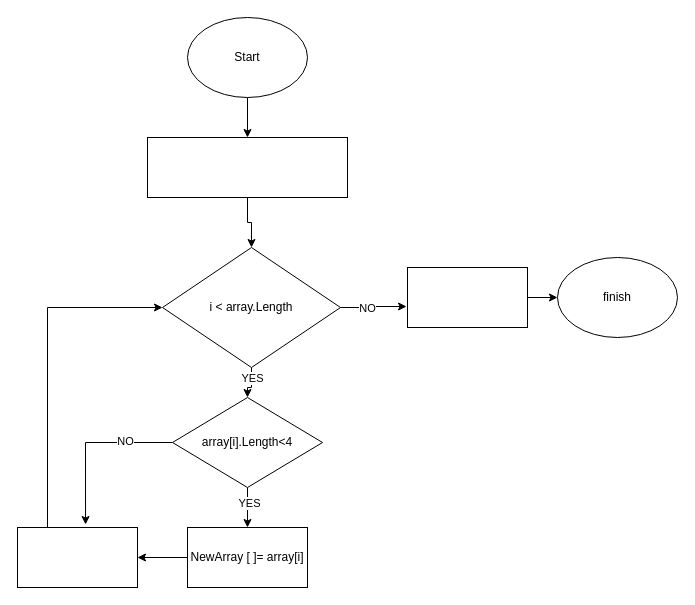
Some shapes in this 695 by 605 pixel diagram are drawn without their labels. The shapes that lost their labels are listed below. From the top down, each one's centre as x and y in pixels, then its label:
At point (247, 167): "Array = [ ]; size = array.Length; i = 0;".
At point (467, 297): "Print(NewArray [ ])".
At point (77, 557): "i++".
